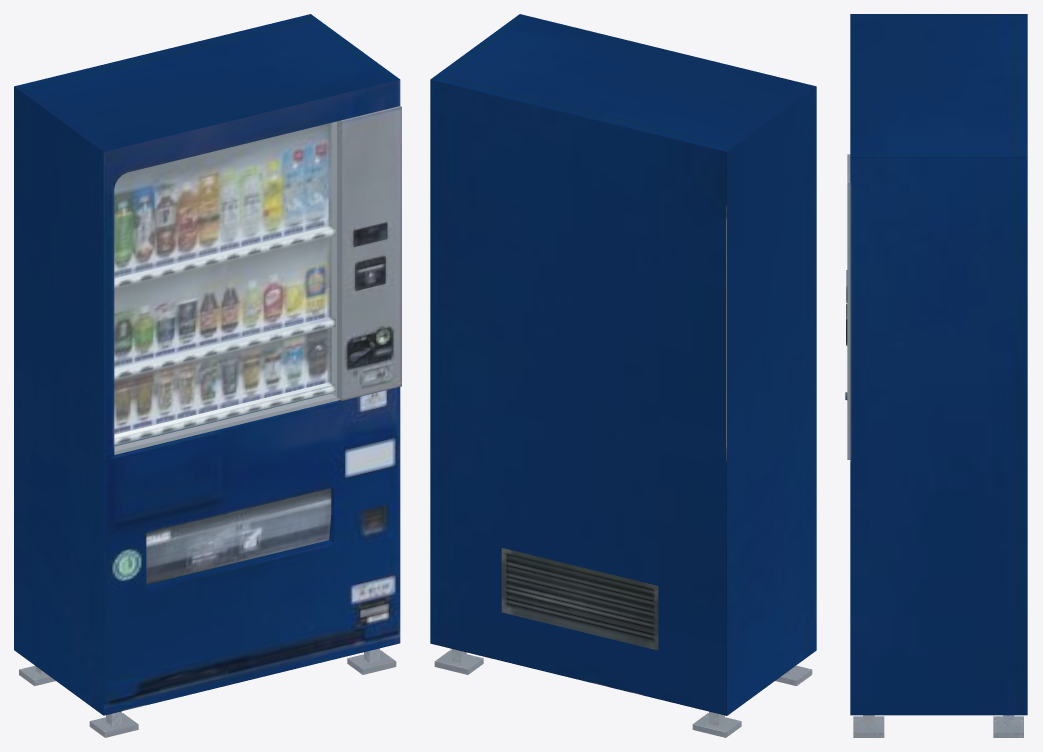
File: sf_vending.glb
3 views of the same model, side by side, from view 1: azimuth 30°, elevation 25°; view 2: azimuth 150°, elevation 25°; view 3: azimuth 270°, elevation 25° (orthographic).
Visible parts, largest first — view 1: Vending_machine_2; view 2: Vending_machine_2; view 3: Vending_machine_2.
Boxes of the visible parts, x1,y1,x2,y2 form: Vending_machine_2: [14, 14, 401, 737]; Vending_machine_2: [430, 14, 816, 737]; Vending_machine_2: [845, 14, 1027, 737].
Size of the model in its own units: 0.967 by 1.83 by 0.5222.
3 materials, 2 textured.
